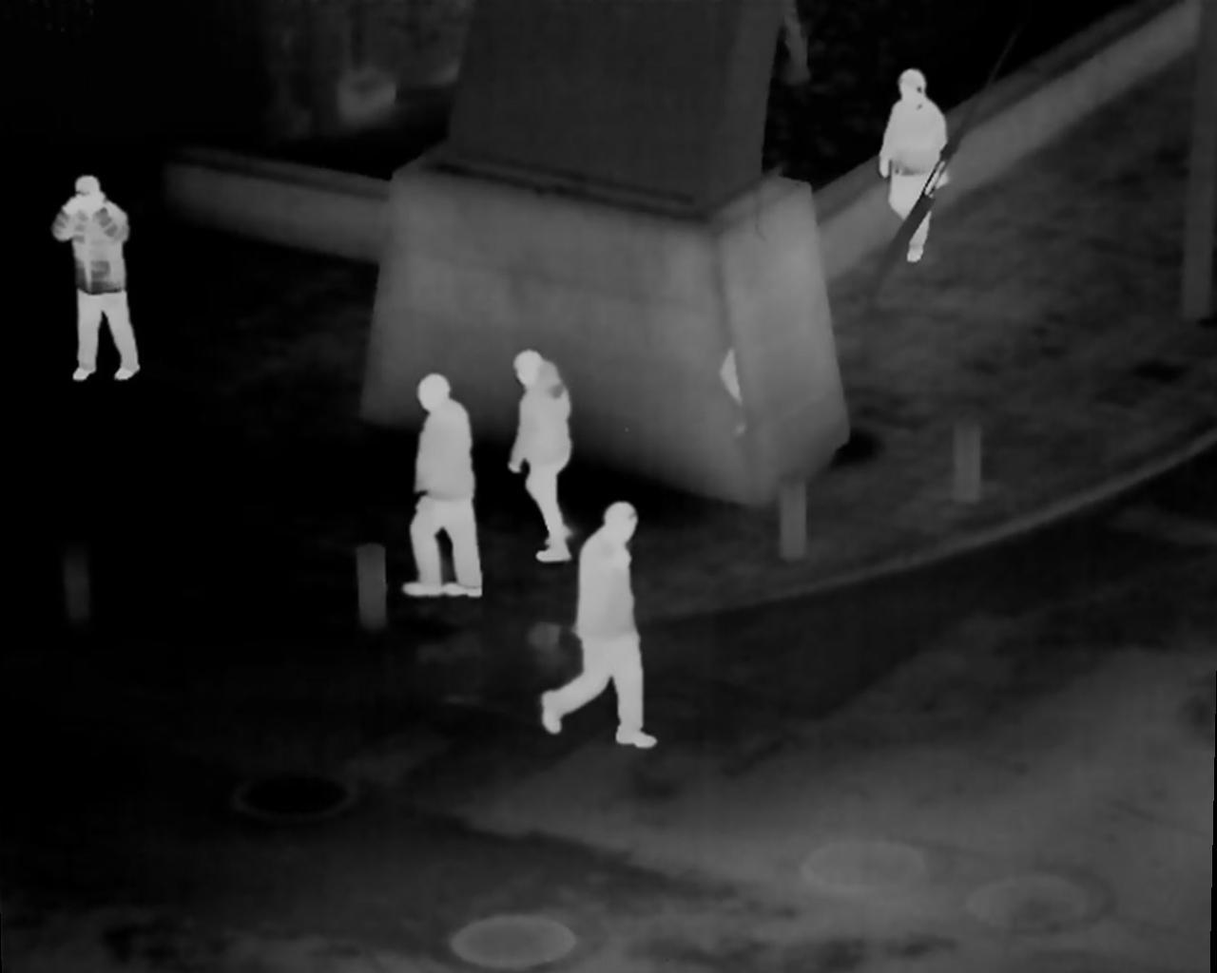person: (543, 502, 663, 753), (386, 372, 490, 599), (50, 178, 137, 379), (881, 69, 958, 268), (508, 354, 576, 562)
